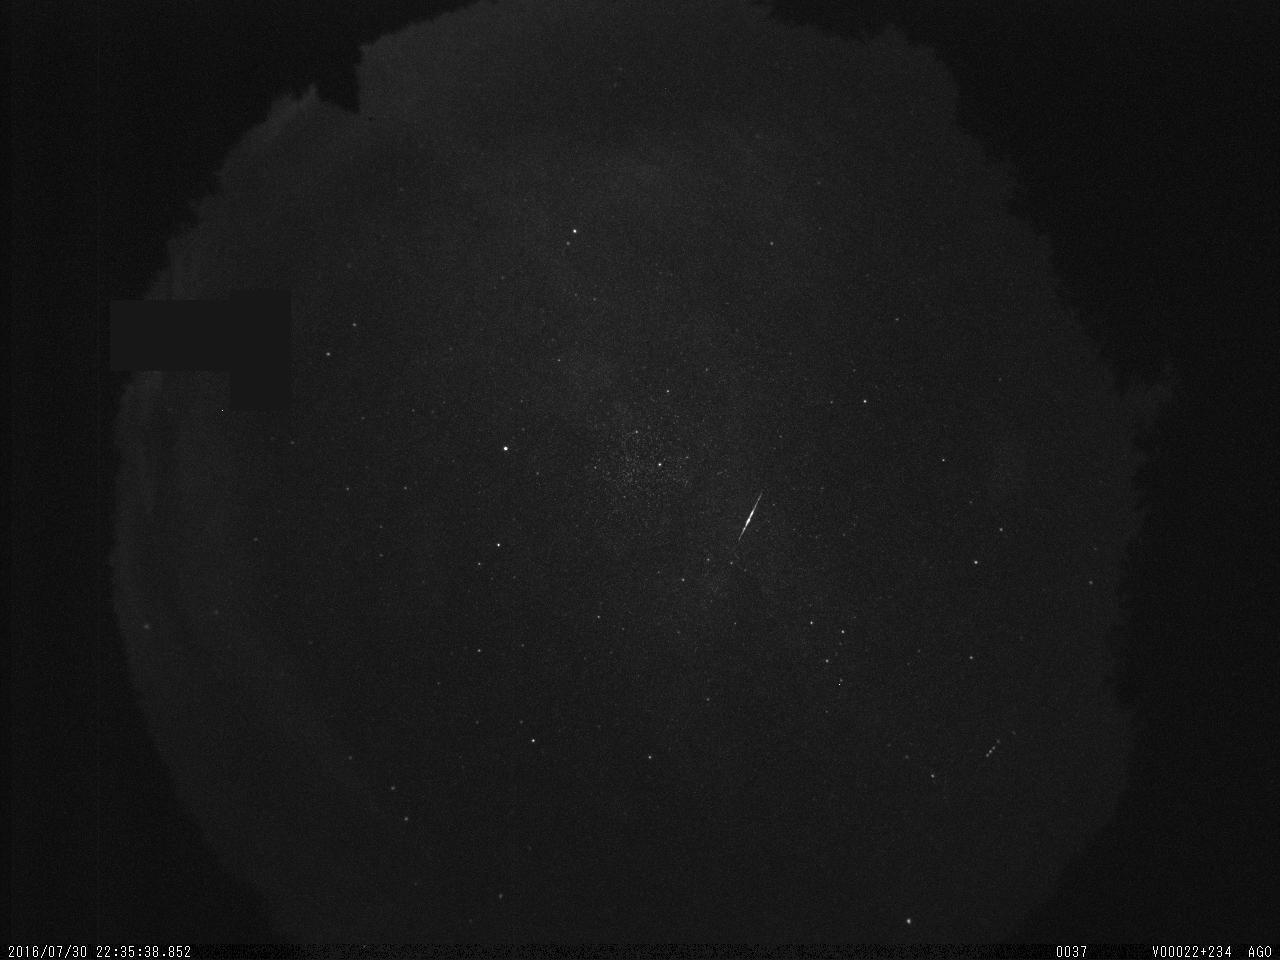meteor: (721, 469, 785, 561)
